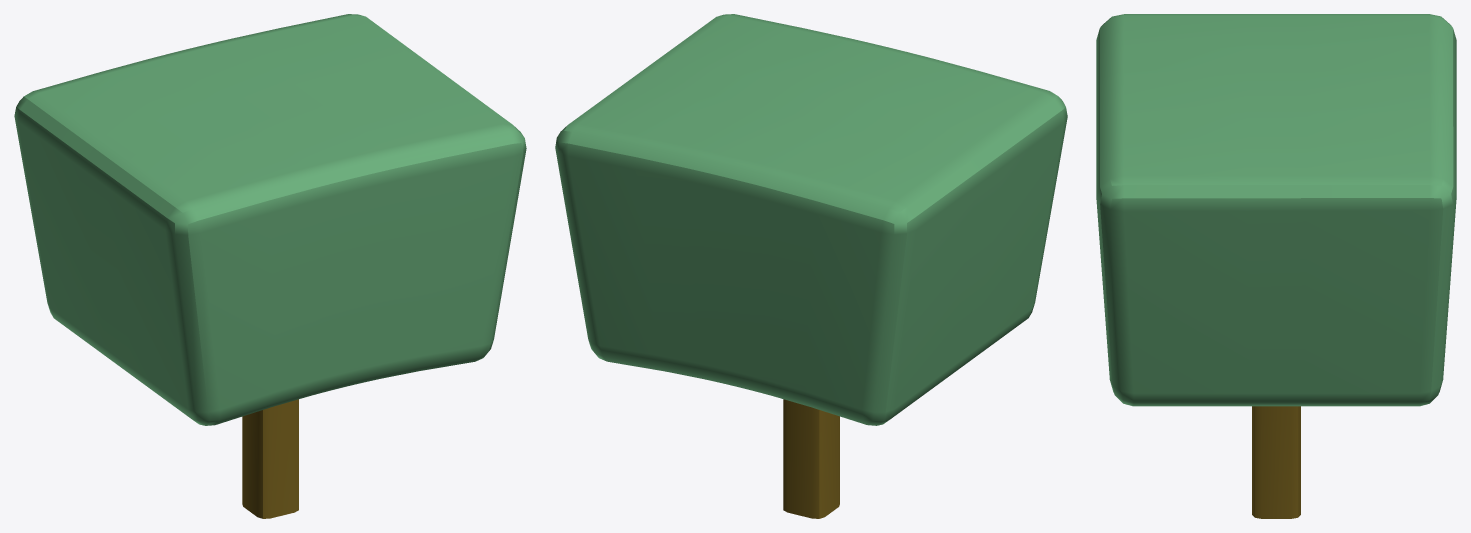
File: Arbre2022.fbx
3 renders of one model, left to right at view 1: azimuth 30°, elevation 25°; view 2: azimuth 150°, elevation 25°; view 3: azimuth 270°, elevation 25°, orthographic. The views are drawn at different scales.
Visible parts, largest first — view 1: pCube3; view 2: pCube3; view 3: pCube3.
Boxes of the visible parts, x1,y1,x2,y2 form: pCube3: (14,14,526,518); pCube3: (555,14,1067,518); pCube3: (1096,14,1456,518).
Bounding box in the file's own units: 58.65 × 63.07 × 49.36.
